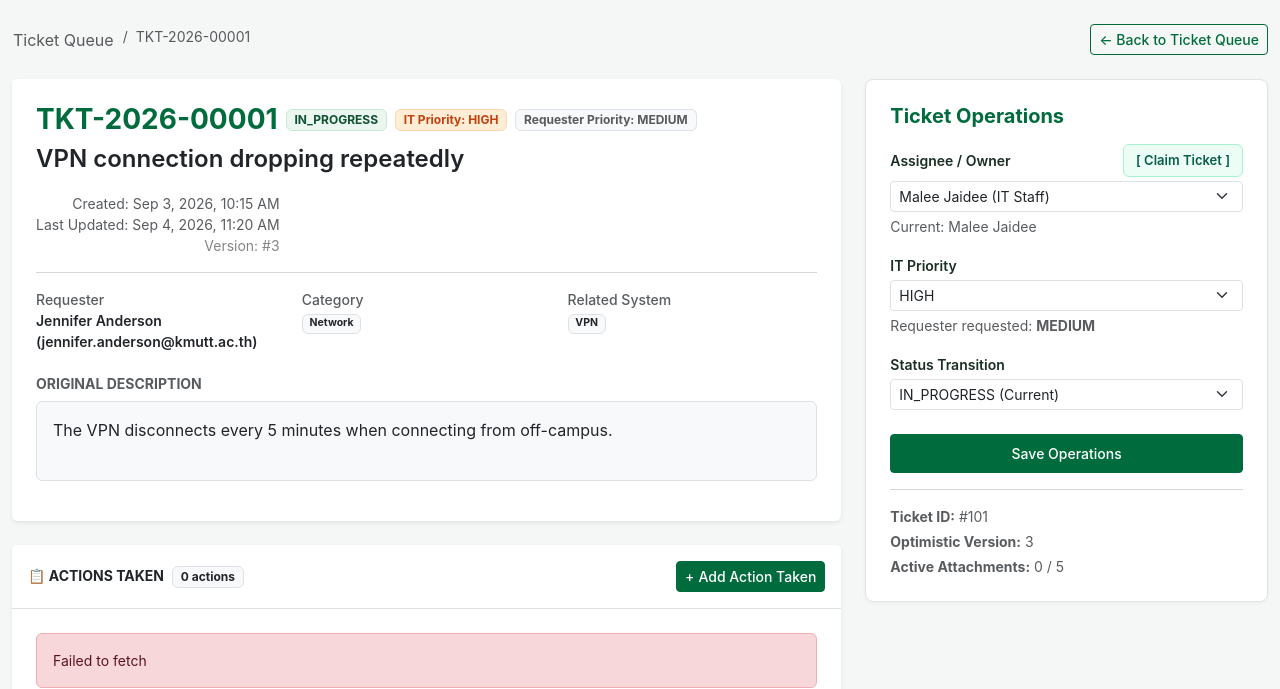
Test: IT Staff Ticket Detail Component (UI-06, UI-07) › UI-06: IT Staff Ticket Detail Operational Controls › UI-06.4: Enforces resolution summary when transitioning to RESOLVED or CLOSED
Select "→ Transition to RESOLVED" in the dropdown with test id "status-transition-select" at coordinates (1067, 394), box [890,379,1243,410]
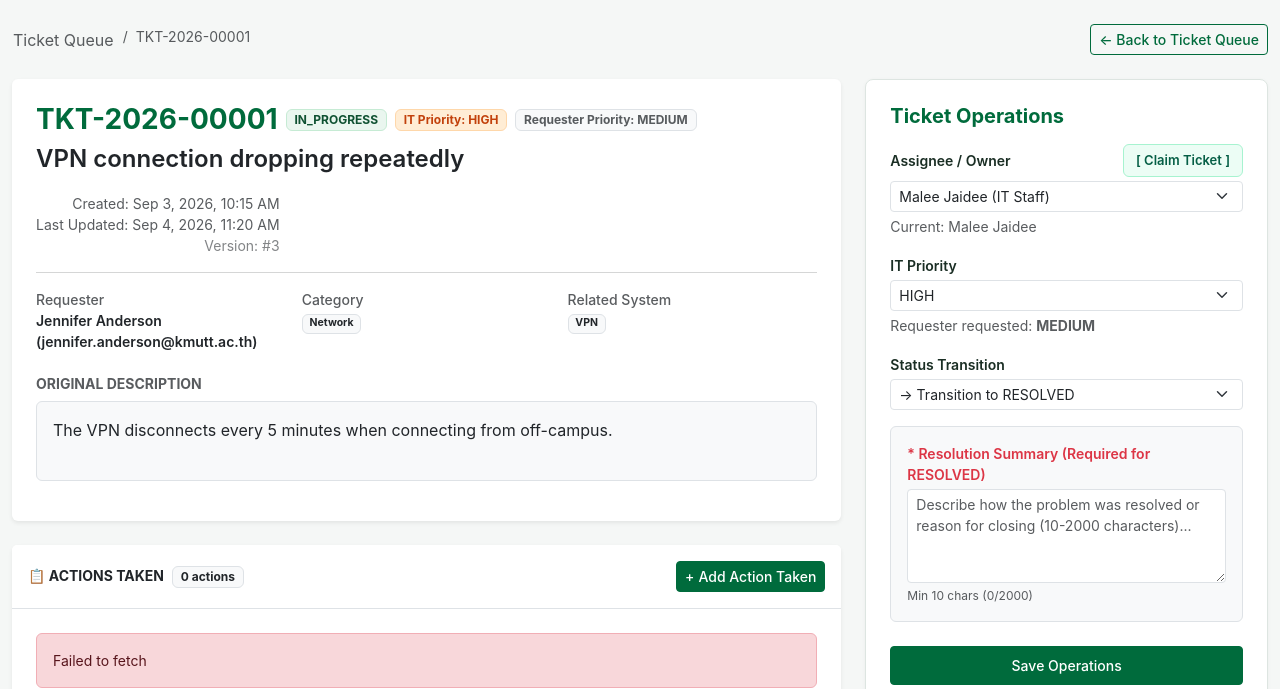
Now the text box with test id "resolution-summary-input" is shown
Replace the text in the text box with test id "resolution-summary-input" with "Fixed" at coordinates (1067, 536), box [907,489,1226,583]
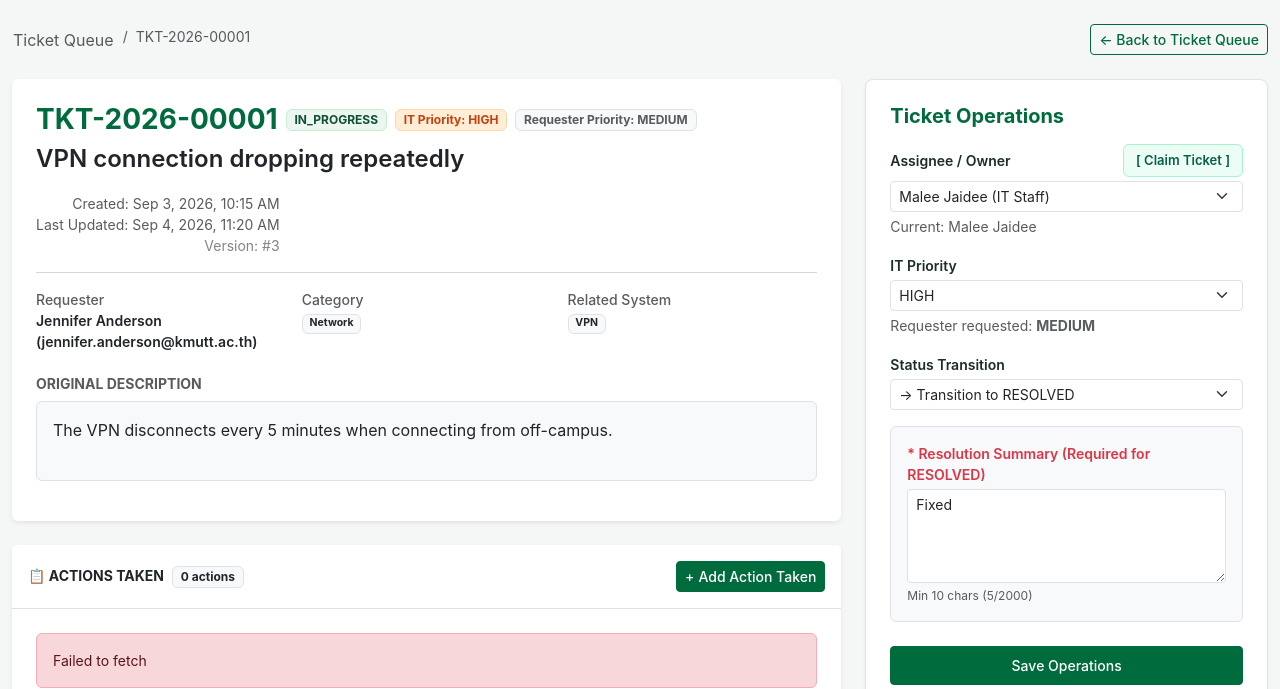
Click the button with test id "save-operations-button" at coordinates (1067, 665), box [890,646,1243,685]
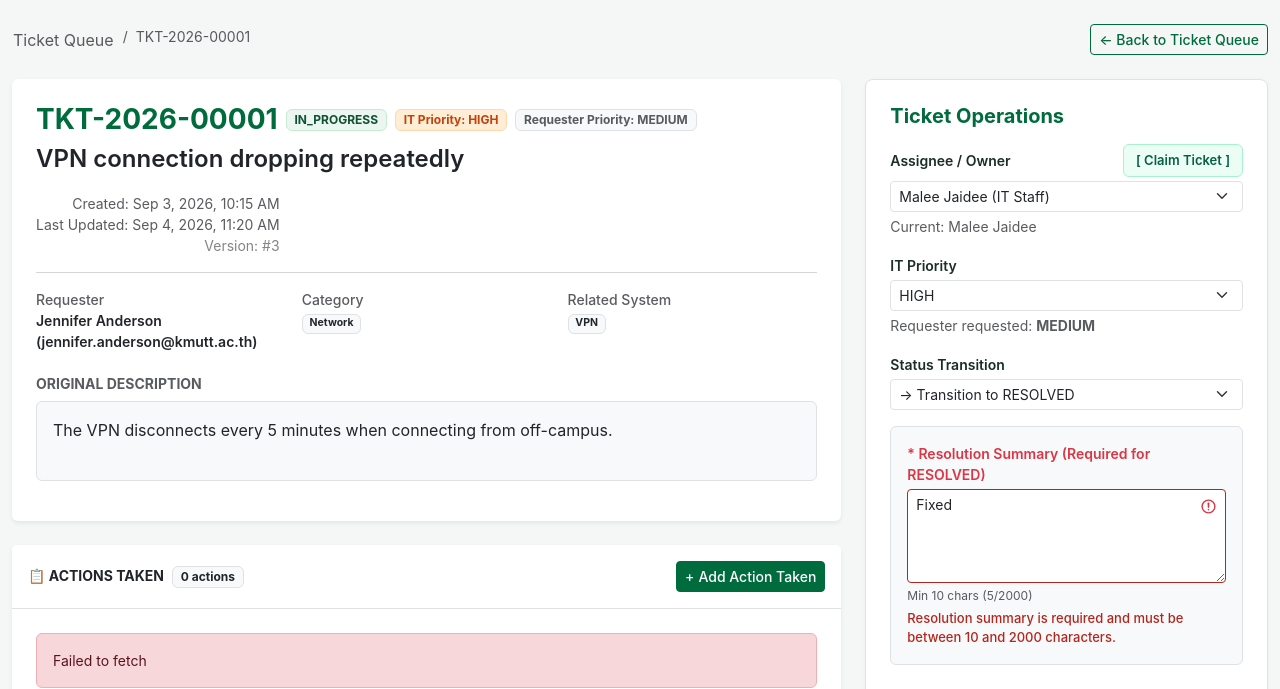
Now the text with test id "resolution-summary-error" shows "Resolution summary is required and must be between 10 and 2000 characters", box [907,610,1183,645]
Replace the text in the text box with test id "resolution-summary-input" with "Reconfigured edge firewall failover rules to eliminate route flapping." at coordinates (1067, 536), box [907,489,1226,583]
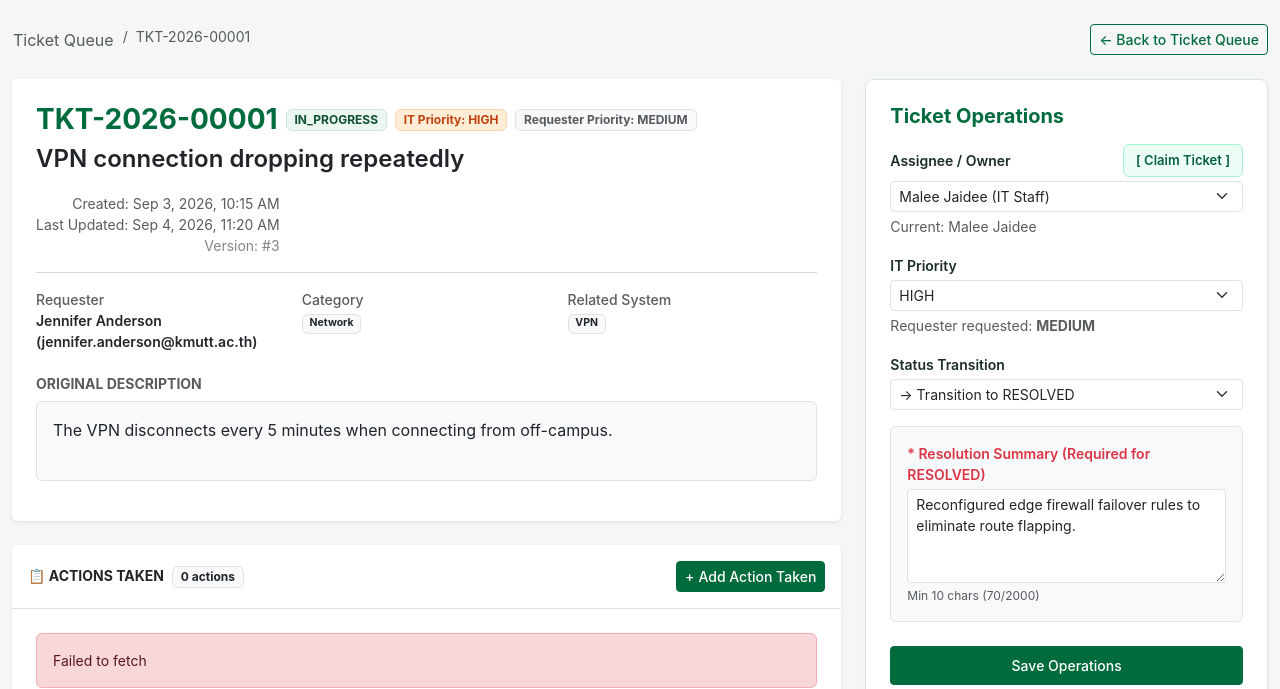
Click the button with test id "save-operations-button" at coordinates (1067, 665), box [890,646,1243,685]
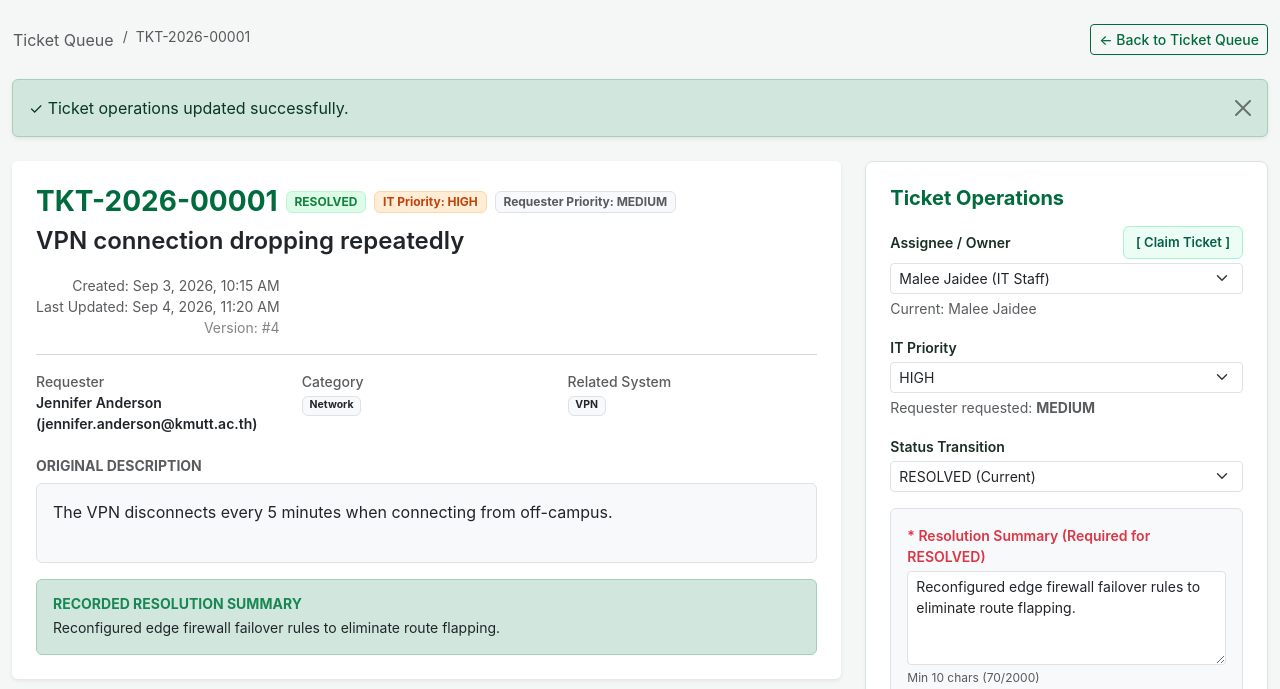
Now the text "✓ Ticket operations updated successfully." is shown, box [29,98,349,118]
